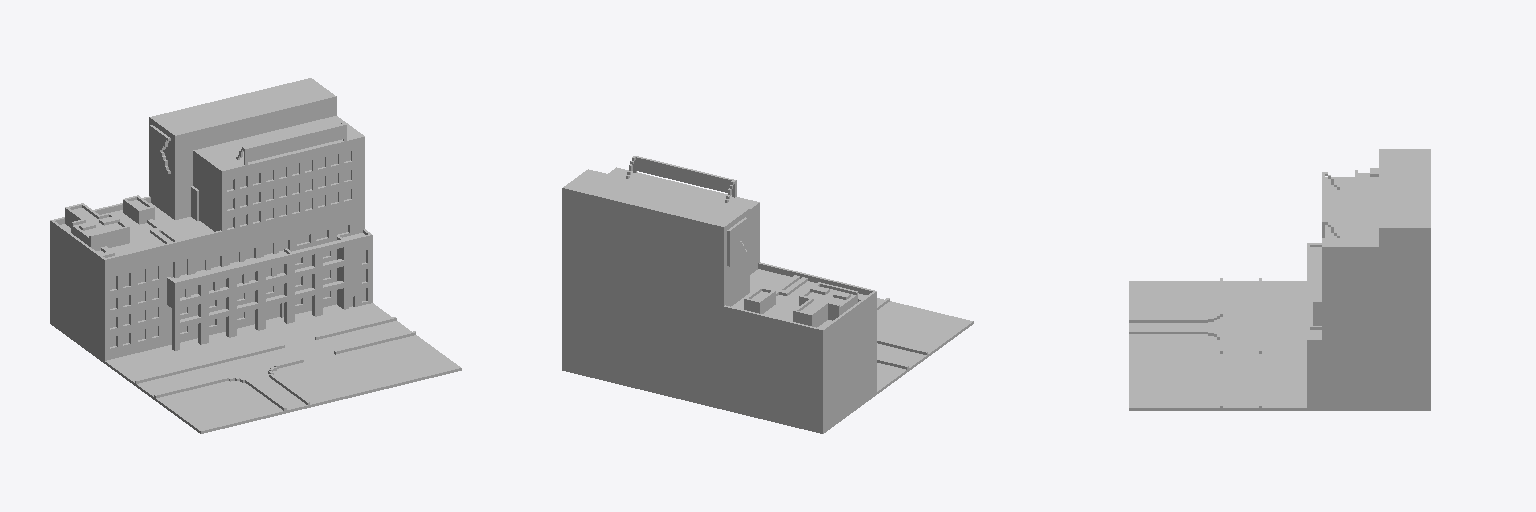
The model's file is завод.obj.
The picture shows the model from 3 angles: view 1: azimuth 30°, elevation 25°; view 2: azimuth 150°, elevation 25°; view 3: azimuth 270°, elevation 25°; orthographic projection.
Parts seen in each view (by area): view 1: object 1; view 2: object 1; view 3: object 1.
Part boxes in pixels (x1,y1,x2,y2): object 1: (50, 78, 461, 433); object 1: (562, 156, 973, 433); object 1: (1129, 149, 1430, 410).
Size of the model in its own units: 10 by 6.7 by 10.